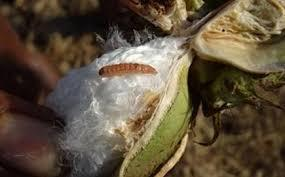Insects: (97, 61, 159, 79)
